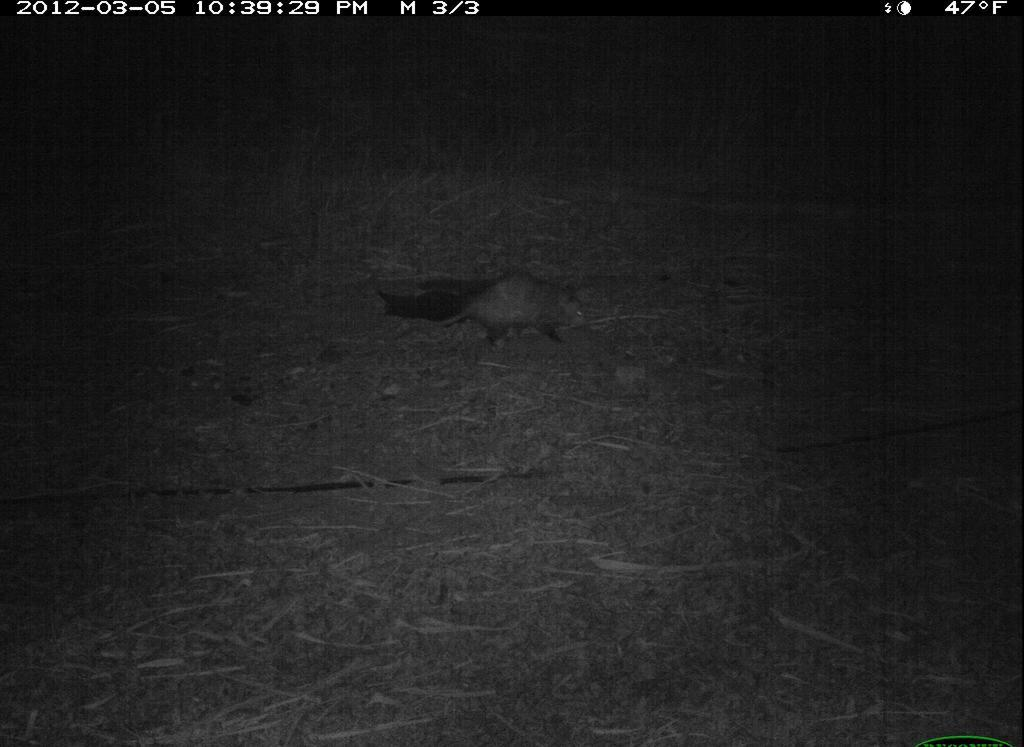opossum: (422, 250, 601, 358)
